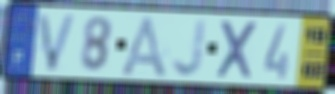4: (262, 23, 291, 81)
8: (79, 14, 114, 74)
A: (117, 14, 170, 81)
J: (169, 17, 209, 79)
V: (36, 11, 79, 73)
X: (214, 18, 259, 82)
